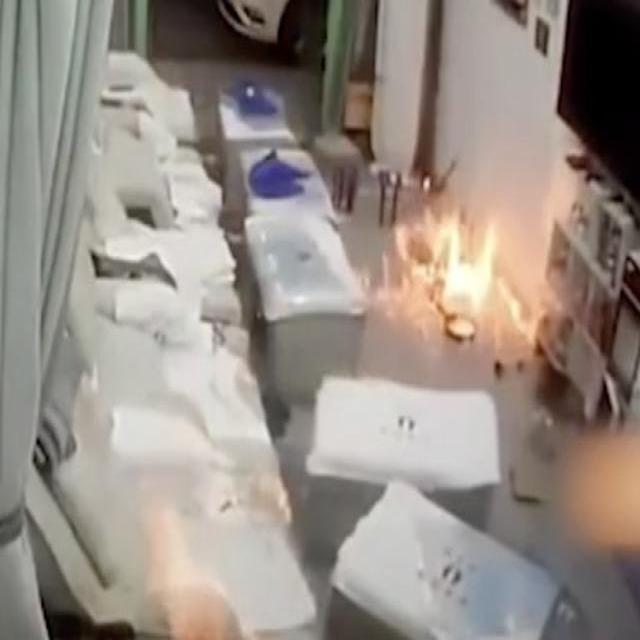smoke: (380, 199, 547, 355)
